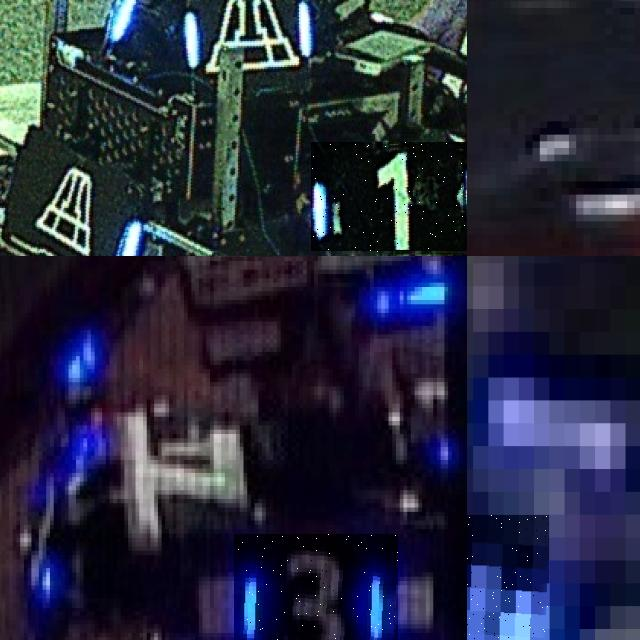B1: (311, 142, 467, 252)
B3: (234, 533, 397, 640), (7, 458, 63, 587)
B4: (467, 514, 549, 640)
